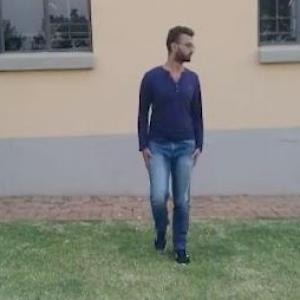follow: (131, 14, 213, 273)
